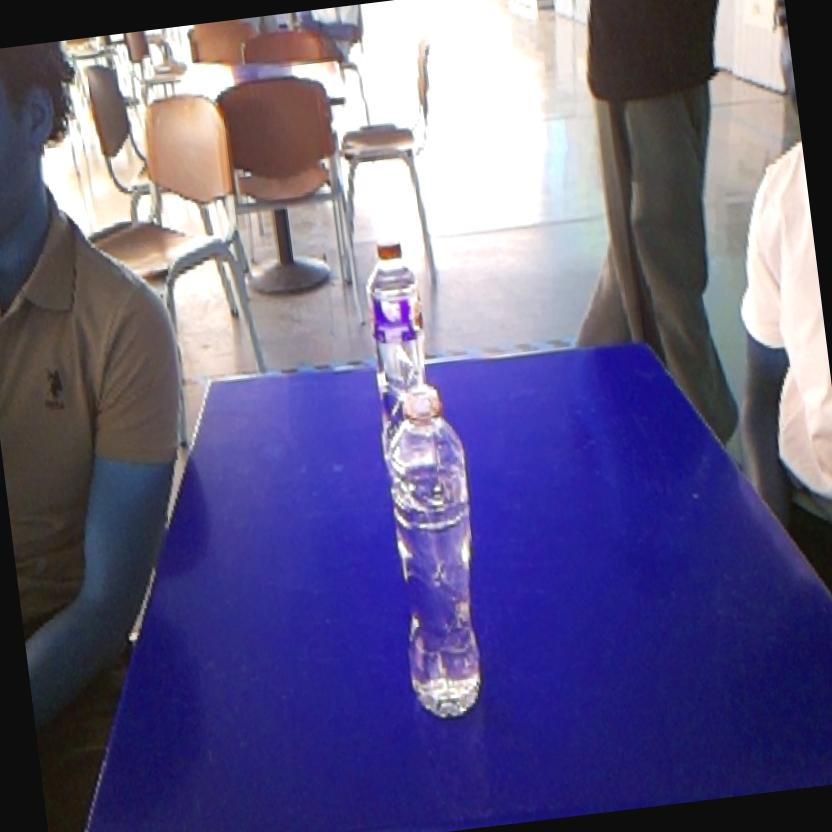good: (351, 228, 438, 378)
no_cap: (366, 373, 503, 726)
